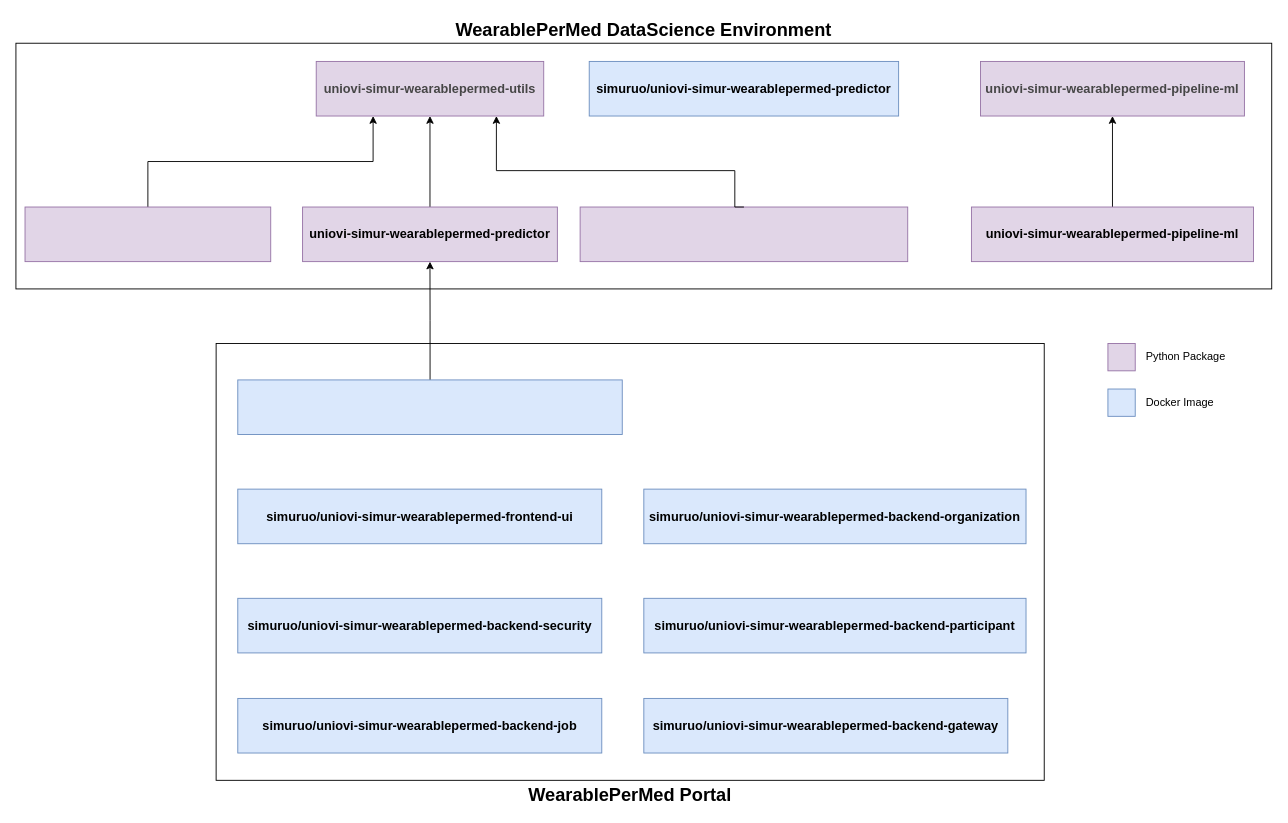
The diagram is 1288 pixels wide and 823 high, and some of its shapes have lost their labels. The shapes that lost their labels are listed below. From the top down, each one's centre as x and y in pixels, then its label:
(x=147, y=234): uniovi-simur-wearablepermed-pipeline
(x=743, y=234): uniovi-simur-wearablepermed-pipeline-step-counting
(x=429, y=407): simuruo/uniovi-simur-wearablepermed-backend-job-predictor
